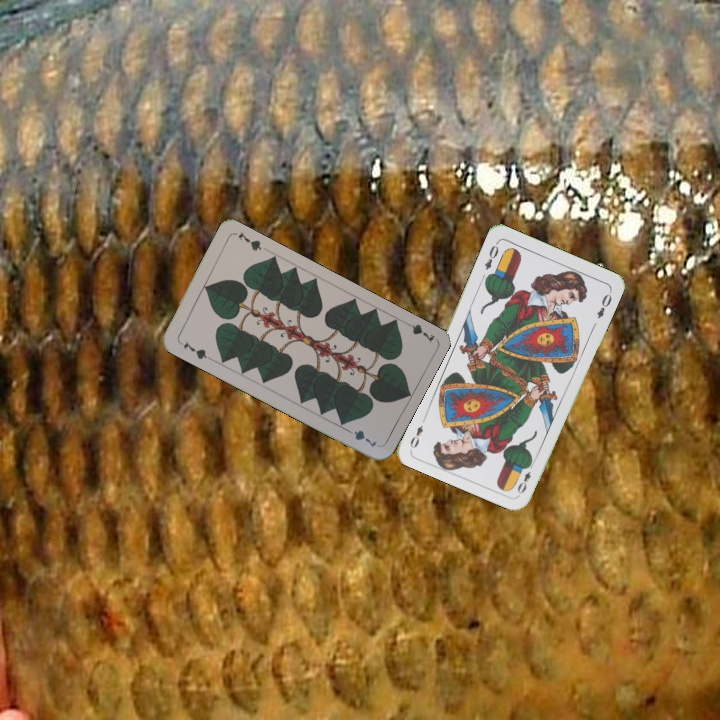EO: (513, 458, 537, 497), (481, 238, 501, 273)
G7: (399, 316, 437, 345), (180, 337, 212, 362)
